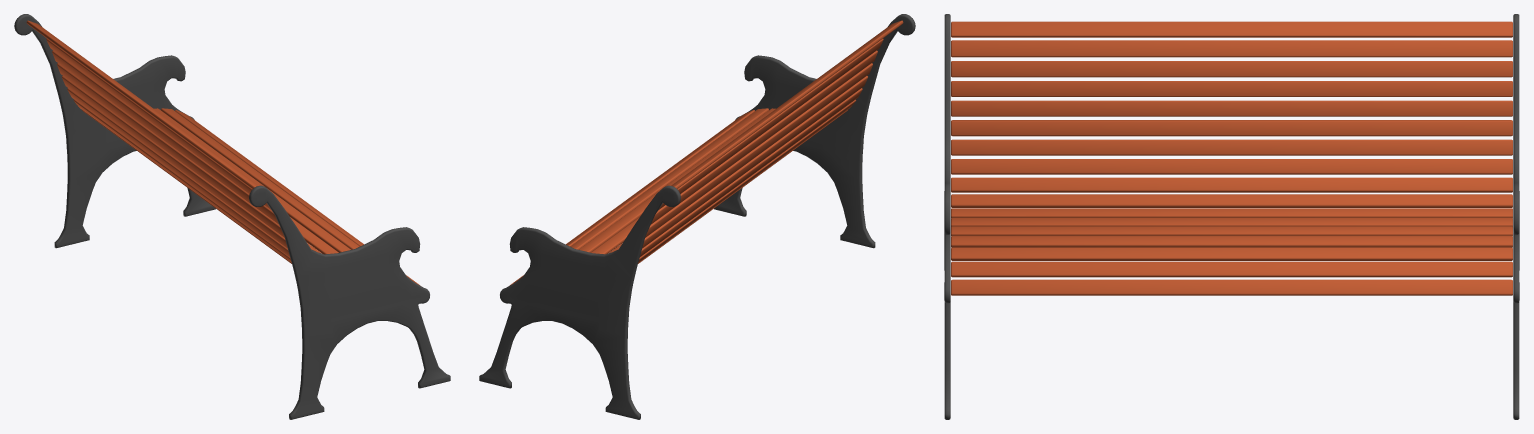
Rendered from Bankje.fbx.
The picture shows the model from 3 angles, left to right: view 1: azimuth 30°, elevation 25°; view 2: azimuth 150°, elevation 25°; view 3: azimuth 270°, elevation 25°; orthographic projection. The views are drawn at different scales.
Visible parts, largest first — view 1: Plane; view 2: Plane; view 3: Plane.
Boxes of the visible parts, left/top/right/bottom form: Plane: left=14, top=14, right=450, bottom=419; Plane: left=479, top=14, right=915, bottom=419; Plane: left=944, top=14, right=1519, bottom=419.
Bounding box in the file's own units: 135 × 155 × 276.
